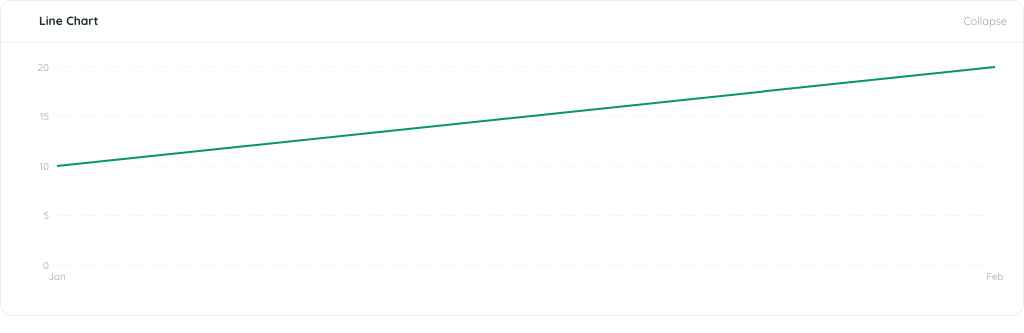
ReportChart component › collapses chart on toggle click
Click the button with aria-label "collapse chart" at (977, 21), box [946,13,1007,30]
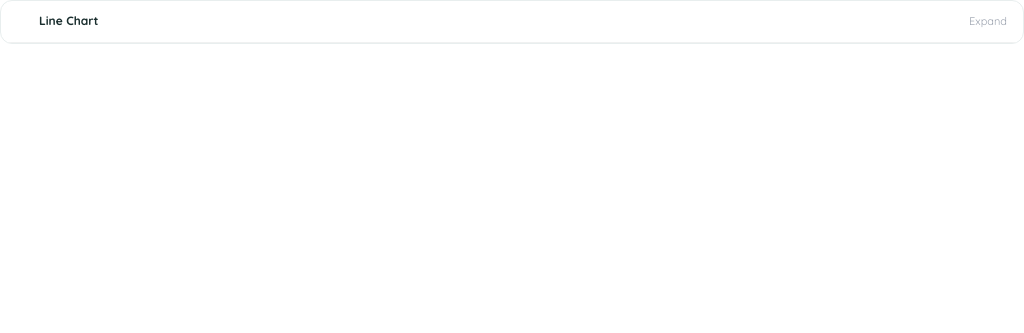
Check: the button with aria-label "expand chart" is shown, box [952,13,1007,30]
